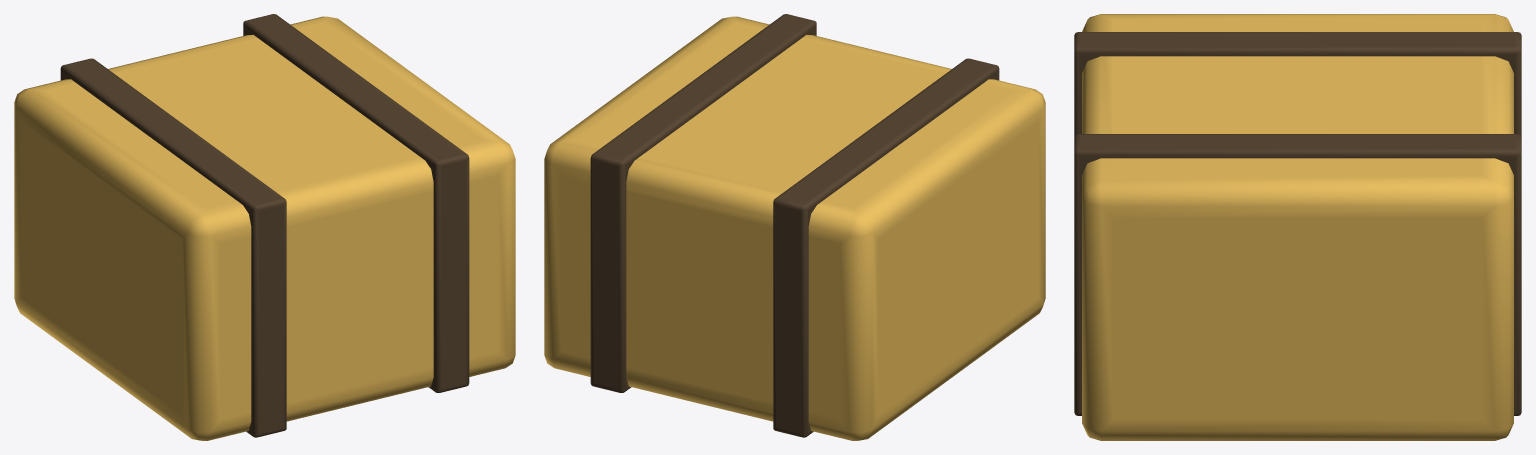
Rendered from bale.glb.
3 views of the same model, side by side, from view 1: azimuth 30°, elevation 25°; view 2: azimuth 150°, elevation 25°; view 3: azimuth 270°, elevation 25° (orthographic). The views are drawn at different scales.
Visible parts, largest first — view 1: Bale_Straw, Bale_Straps; view 2: Bale_Straw, Bale_Straps; view 3: Bale_Straw, Bale_Straps.
Part boxes in pixels (bbox=[...]): Bale_Straw: bbox=[14, 16, 515, 440]; Bale_Straps: bbox=[60, 14, 469, 437]; Bale_Straw: bbox=[544, 16, 1045, 440]; Bale_Straps: bbox=[590, 14, 999, 437]; Bale_Straw: bbox=[1082, 14, 1513, 440]; Bale_Straps: bbox=[1074, 32, 1521, 415].
Bounding box in the file's own units: 0.68 × 0.462 × 0.704.
